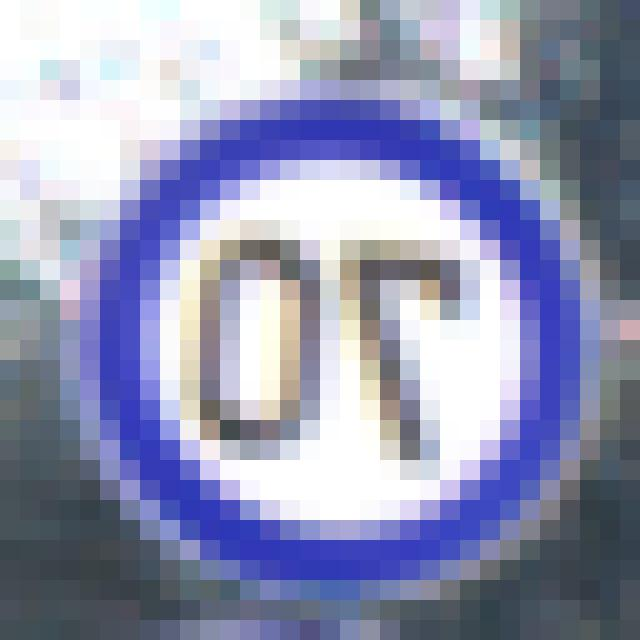SPEED LIMIT 70: (63, 93, 603, 595)
